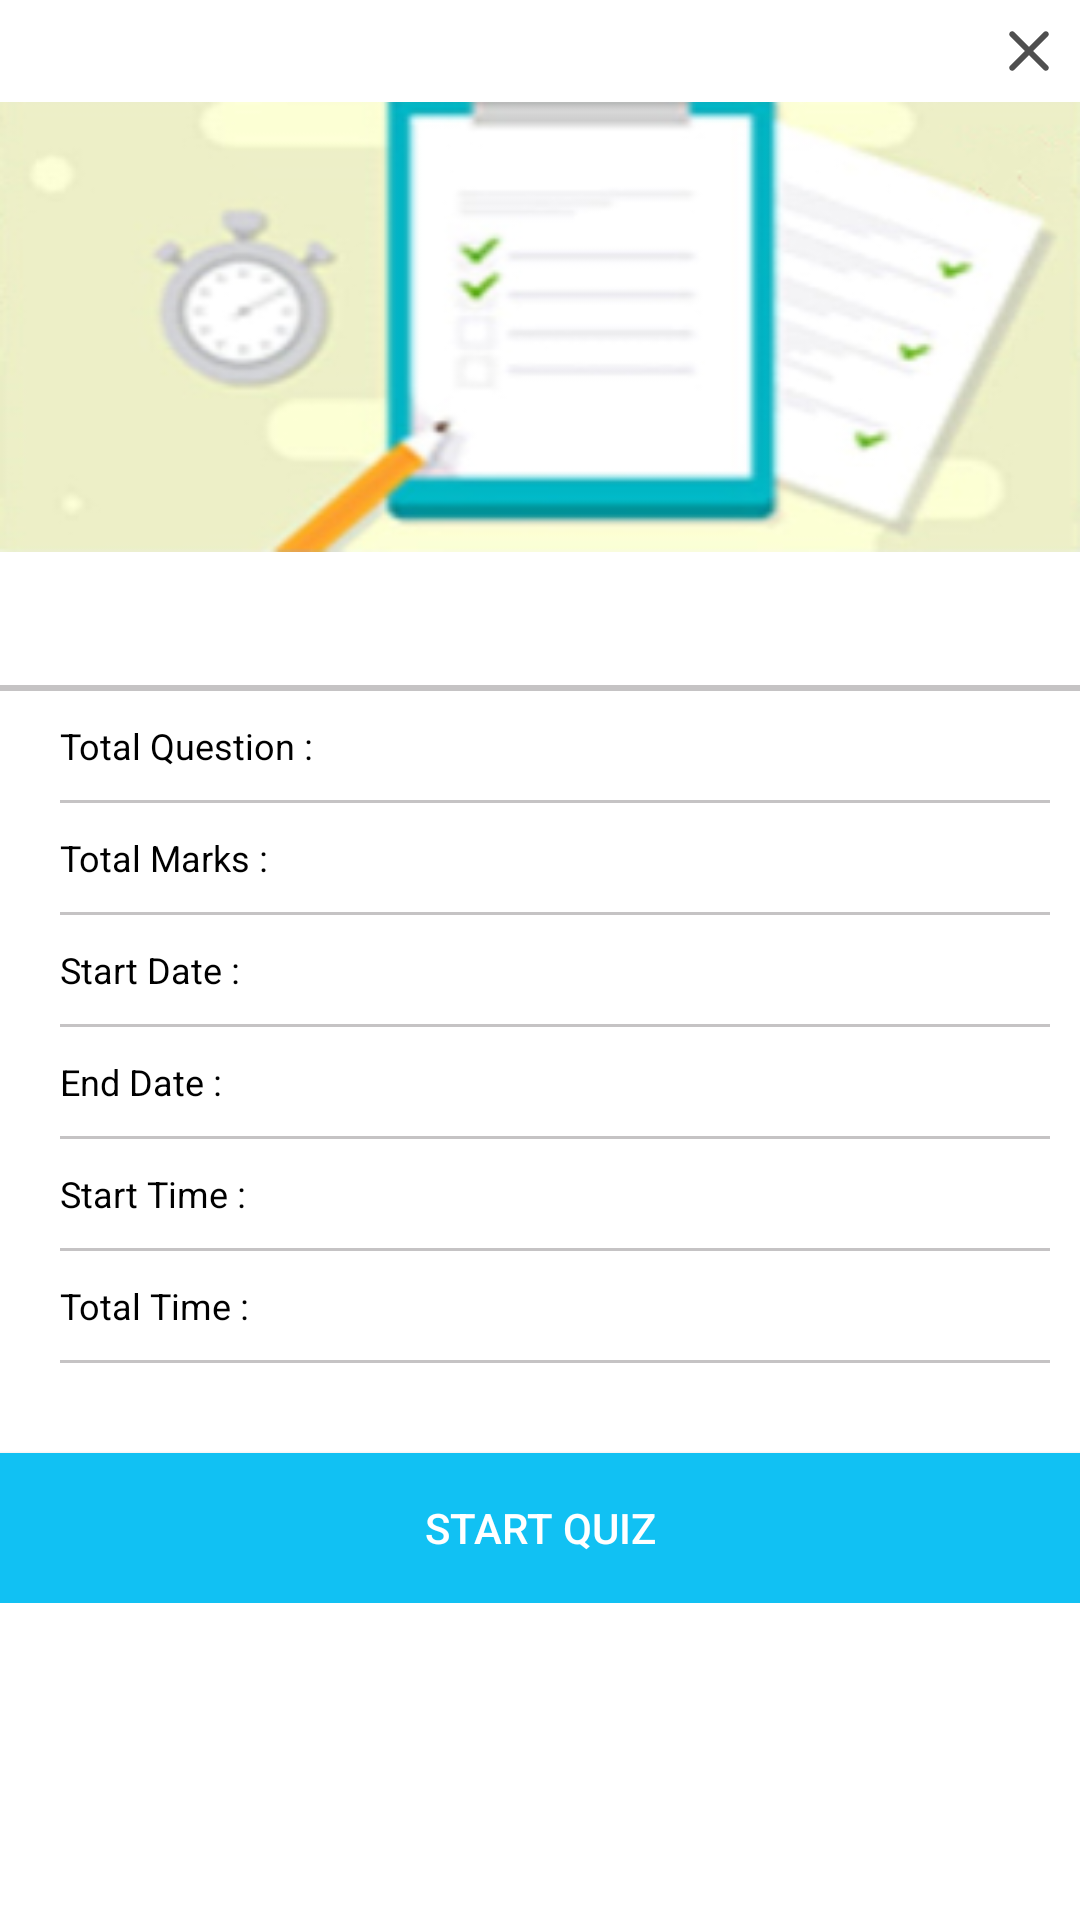

Icons on this 1080*1920 Android screen, each with its box as BBox(x1, y1, x2, y2):
close: BBox(1009, 31, 1049, 71)
